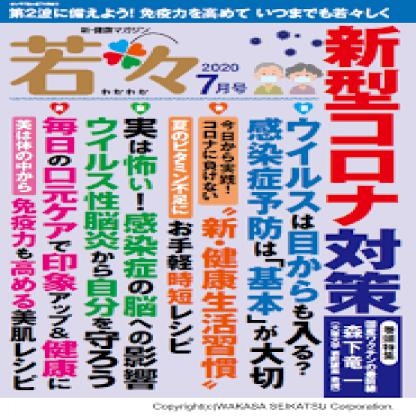paper: (0, 0, 414, 398)
